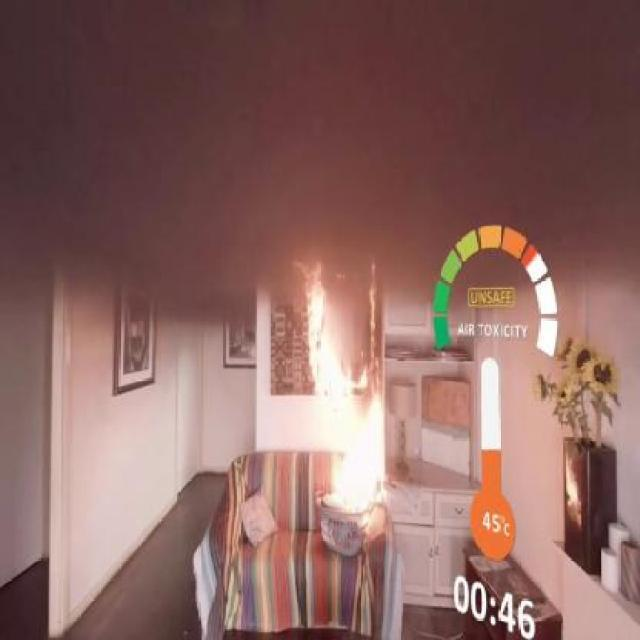fire: (268, 242, 404, 546)
smoke: (152, 16, 442, 236)
